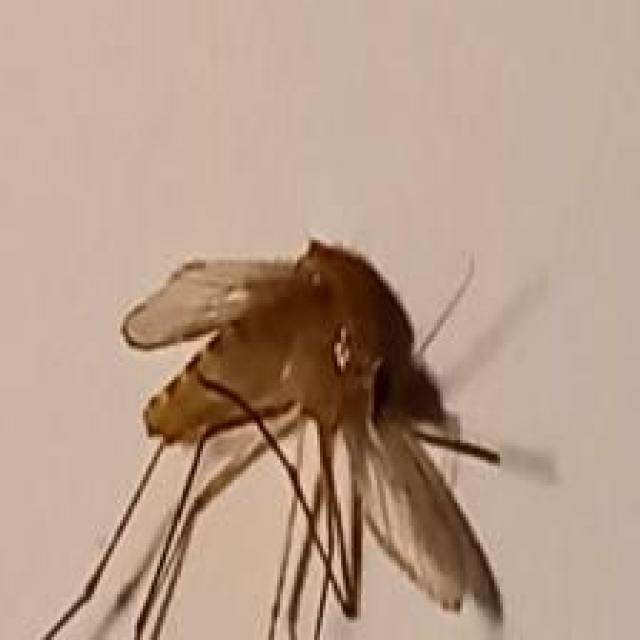Culex: (17, 237, 520, 640)
